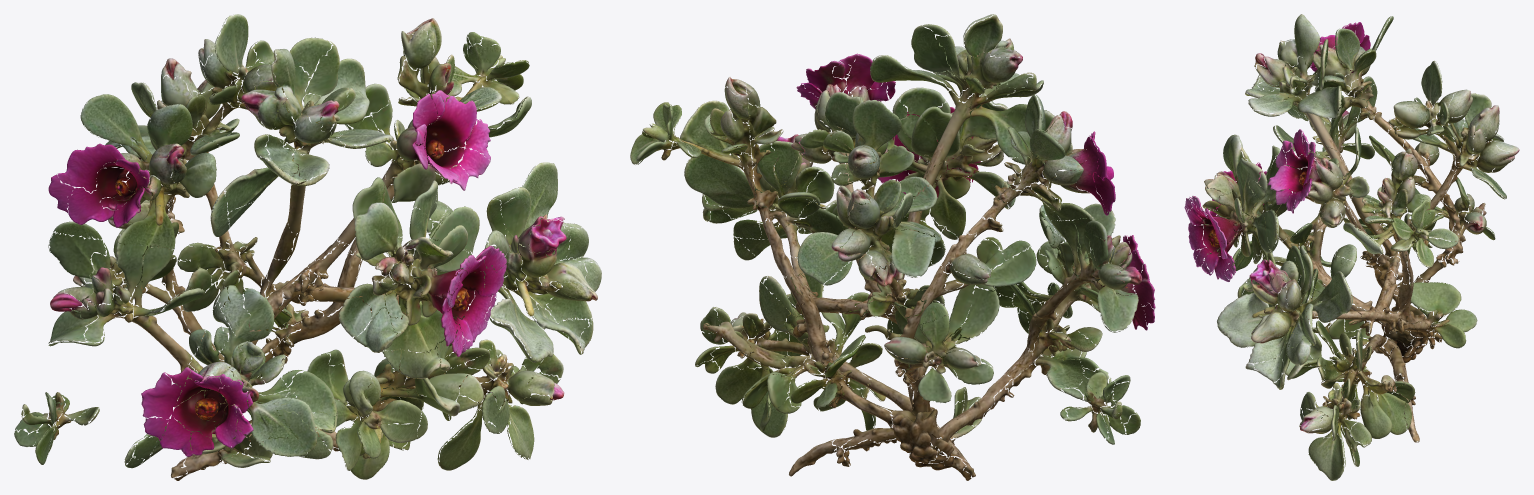
File: samruhat.glb
3 renders of one model, left to right at view 1: azimuth 30°, elevation 25°; view 2: azimuth 150°, elevation 25°; view 3: azimuth 270°, elevation 25°, orthographic. The views are drawn at different scales.
Parts seen in each view (by area): view 1: tripo_node_695c2e4b-5b3b-4de5-8840-86f9a31a10f8; view 2: tripo_node_695c2e4b-5b3b-4de5-8840-86f9a31a10f8; view 3: tripo_node_695c2e4b-5b3b-4de5-8840-86f9a31a10f8.
Boxes of the visible parts, x1,y1,x2,y2 form: tripo_node_695c2e4b-5b3b-4de5-8840-86f9a31a10f8: (14, 14, 601, 480); tripo_node_695c2e4b-5b3b-4de5-8840-86f9a31a10f8: (630, 14, 1155, 480); tripo_node_695c2e4b-5b3b-4de5-8840-86f9a31a10f8: (1184, 14, 1519, 480).
Size of the model in its own units: 0.978 by 0.8825 by 0.7171.
1 material, 1 textured.
